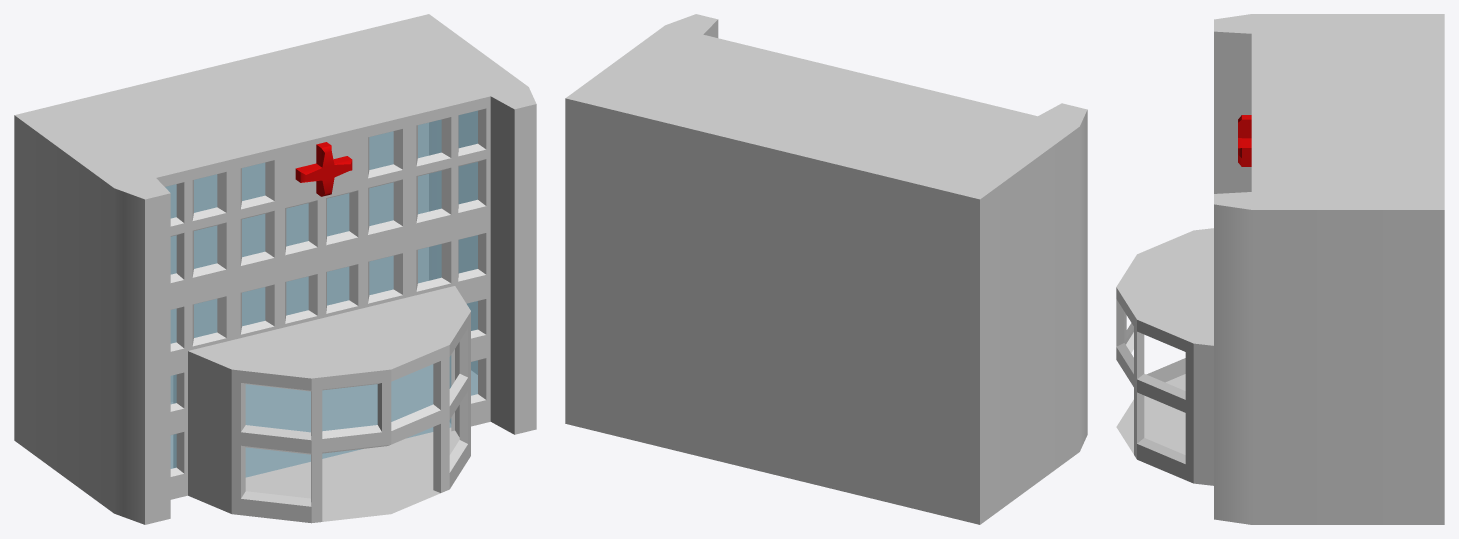
The model's file is Hospital.fbx.
3 views of the same model, side by side, from view 1: azimuth 30°, elevation 25°; view 2: azimuth 150°, elevation 25°; view 3: azimuth 270°, elevation 25° (orthographic). The views are drawn at different scales.
Parts seen in each view (by area): view 1: pCylinder36, pPlane3, pCube10; view 2: pCylinder36; view 3: pCylinder36, pCube10.
Part boxes in pixels (x1,y1,x2,y2): pCylinder36: (14,14,536,524); pPlane3: (165,110,477,477); pCube10: (295,142,352,196); pCylinder36: (565,14,1087,524); pCylinder36: (1116,14,1444,524); pCube10: (1238,115,1251,166).
Bounding box in the file's own units: 120 × 90 × 85.
